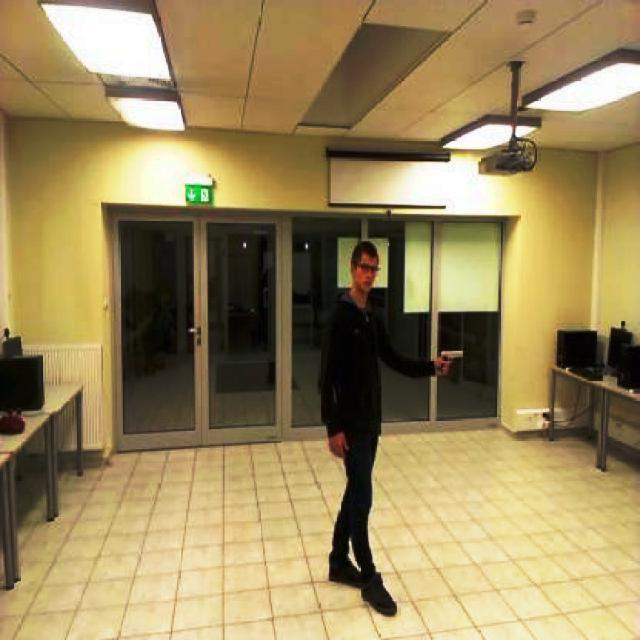Gun: (434, 337, 478, 375)
